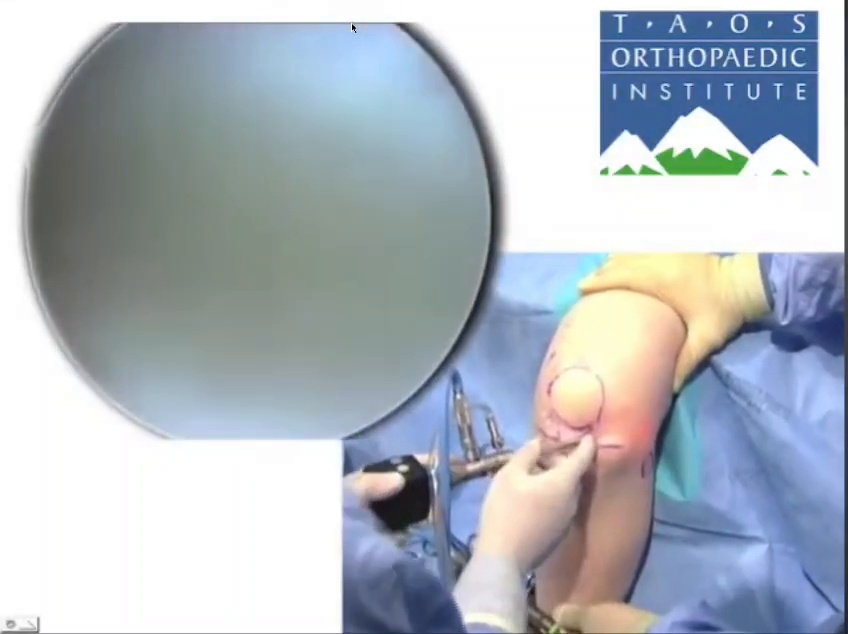arthroscope: (788, 345, 848, 634)
